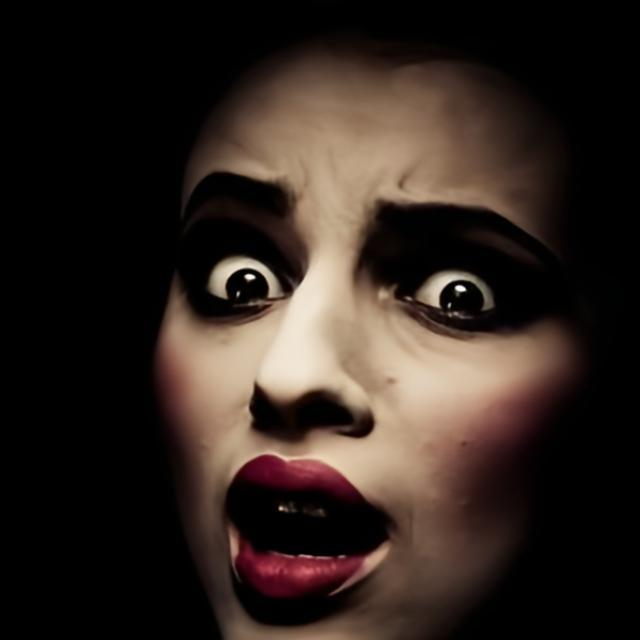fear: (157, 46, 592, 640)
